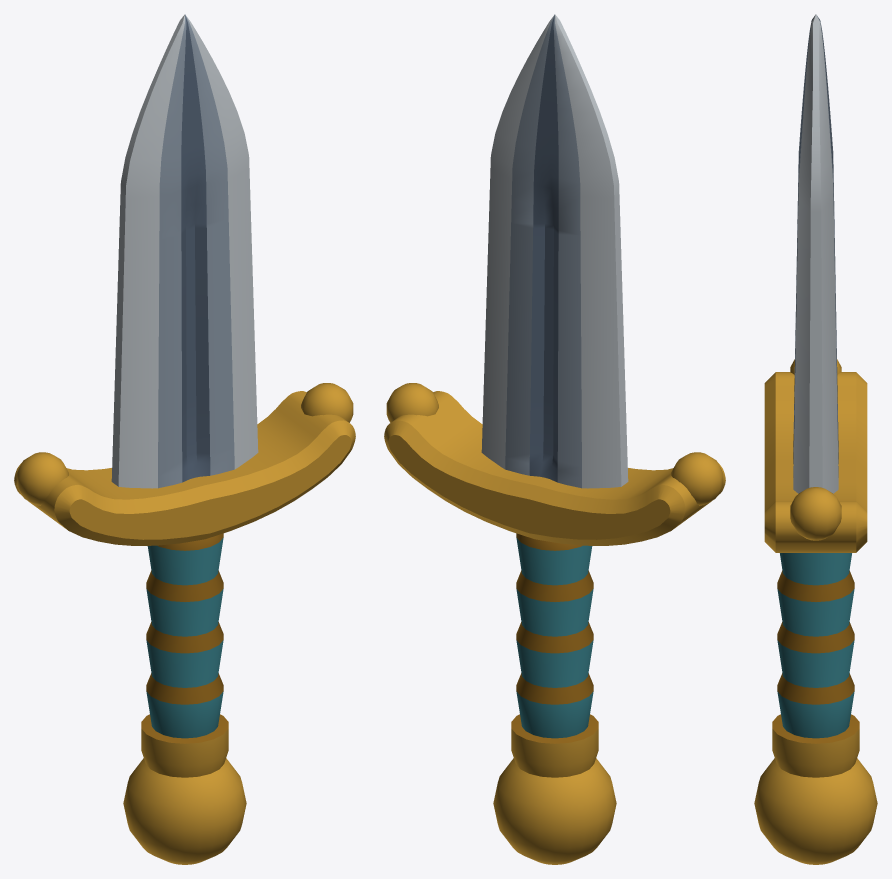
The model's file is Dagger_11.glb.
3 views of the same model, side by side, from view 1: azimuth 30°, elevation 25°; view 2: azimuth 150°, elevation 25°; view 3: azimuth 270°, elevation 25° (orthographic).
Visible parts, largest first — view 1: Dagger_11; view 2: Dagger_11; view 3: Dagger_11.
Boxes of the visible parts, left/top/right/bottom form: Dagger_11: left=14, top=14, right=355, bottom=864; Dagger_11: left=384, top=14, right=725, bottom=864; Dagger_11: left=754, top=14, right=877, bottom=864.
Size of the model in its own units: 1.54 by 3.78 by 0.5.
